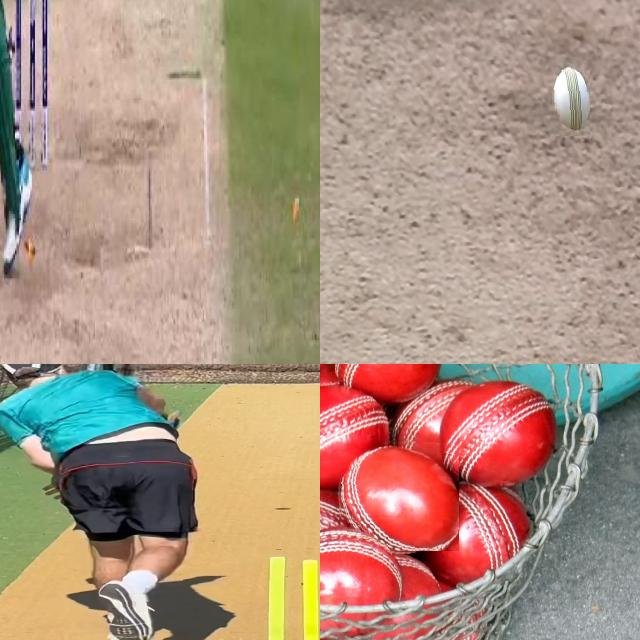Cricket ball: (335, 435, 459, 551), (328, 364, 446, 399), (550, 60, 590, 136)
Stumps: (250, 554, 320, 640)
